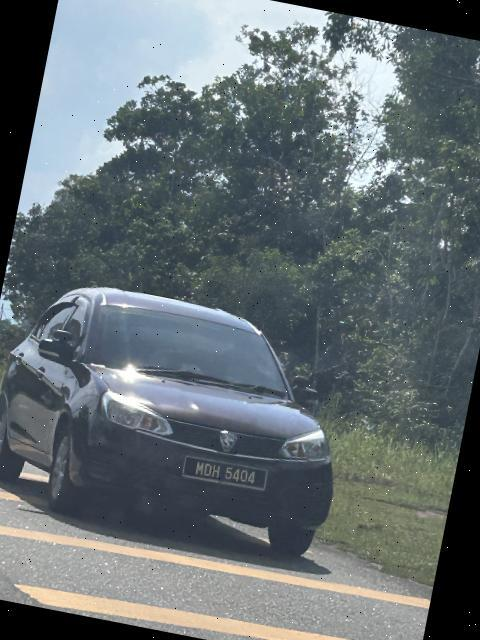License_Plate: (181, 454, 271, 495)
MDH5404: (181, 454, 271, 495)
car: (1, 266, 361, 574)
